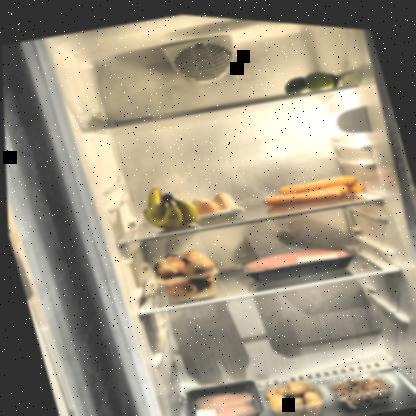banana: (129, 172, 201, 236)
carrot: (247, 154, 374, 221)
chicken: (177, 368, 267, 415)
chocolate: (104, 109, 153, 129)
eggs: (184, 181, 245, 225)
ground_beef: (238, 228, 358, 288)
lime: (277, 57, 346, 99)
onion: (142, 238, 225, 309)
potato: (257, 367, 327, 415)
shrimp: (324, 360, 396, 411)
